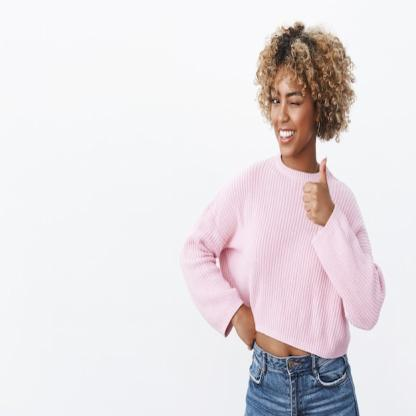thumb_up: (300, 151, 337, 231)
